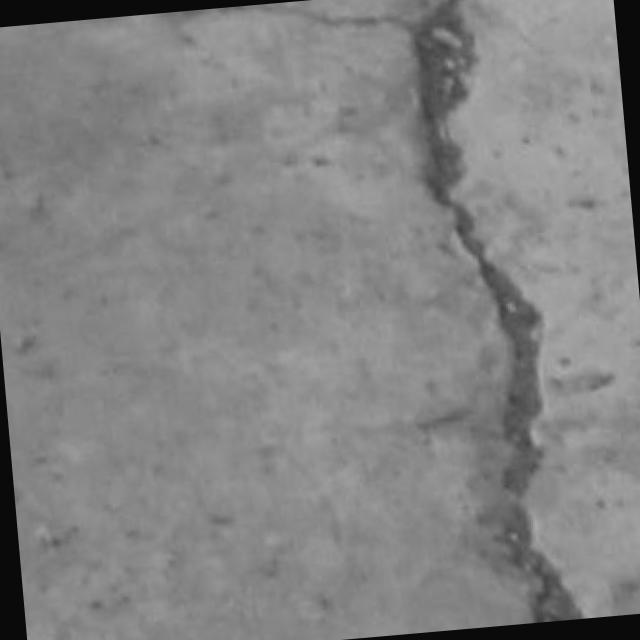crack: (412, 0, 580, 622), (159, 3, 410, 29)
